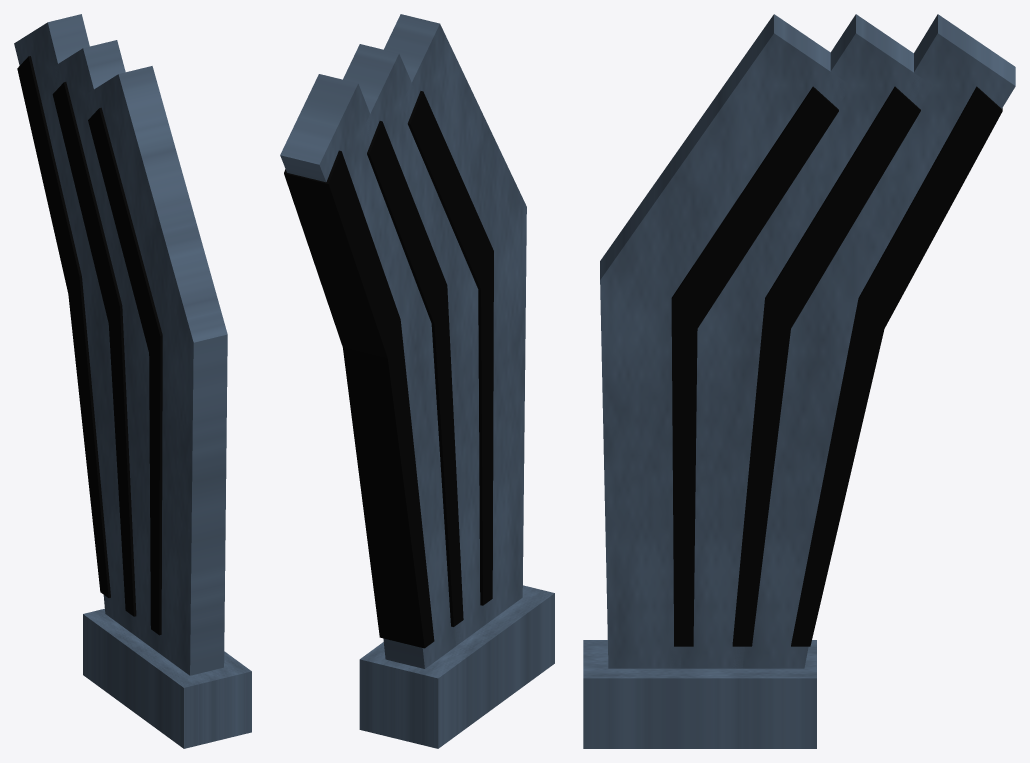
The model's file is rival_mother_claw.obj.
3 views of the same model, side by side, from view 1: azimuth 30°, elevation 25°; view 2: azimuth 150°, elevation 25°; view 3: azimuth 270°, elevation 25° (orthographic). The views are drawn at different scales.
Visible parts, largest first — view 1: rival_mother_claw; view 2: rival_mother_claw; view 3: rival_mother_claw.
Part boxes in pixels (bbox=[...]): rival_mother_claw: bbox=[14, 14, 251, 748]; rival_mother_claw: bbox=[280, 14, 554, 748]; rival_mother_claw: bbox=[583, 14, 1015, 748].
Size of the model in its own units: 0.0874 by 0.75 by 0.4163.
